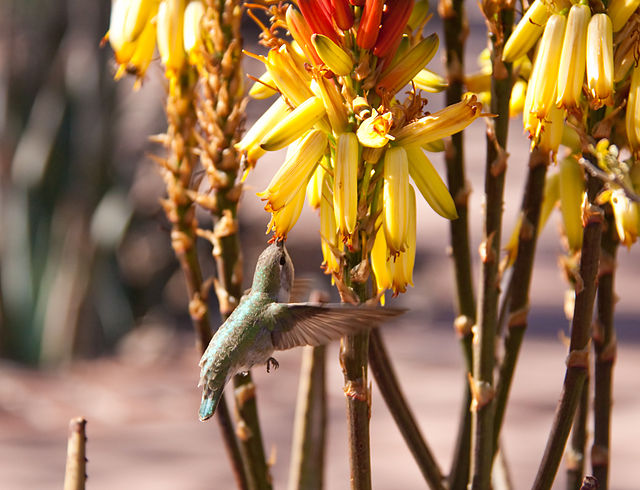calypte costae: (196, 237, 410, 419)
